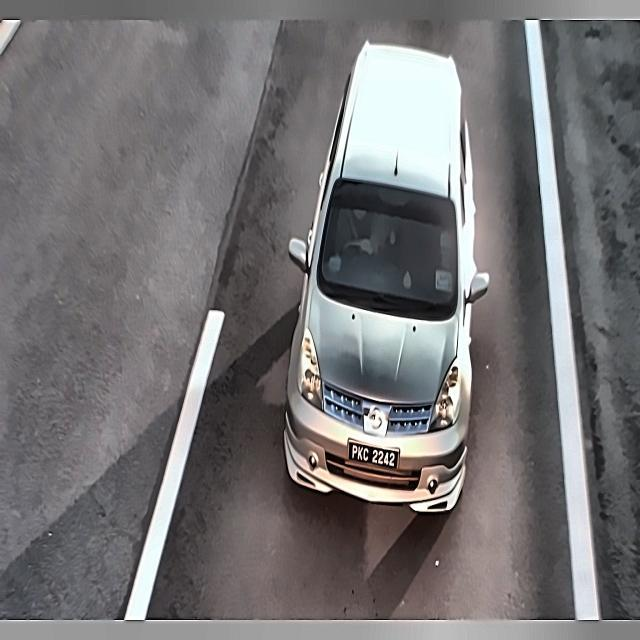car: (344, 435, 404, 474)
